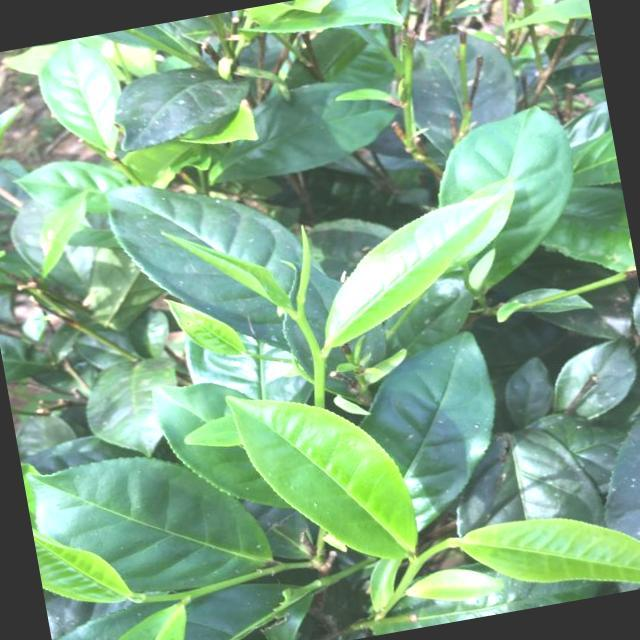Stem: (401, 561, 422, 586), (313, 357, 325, 386), (186, 589, 205, 601)
